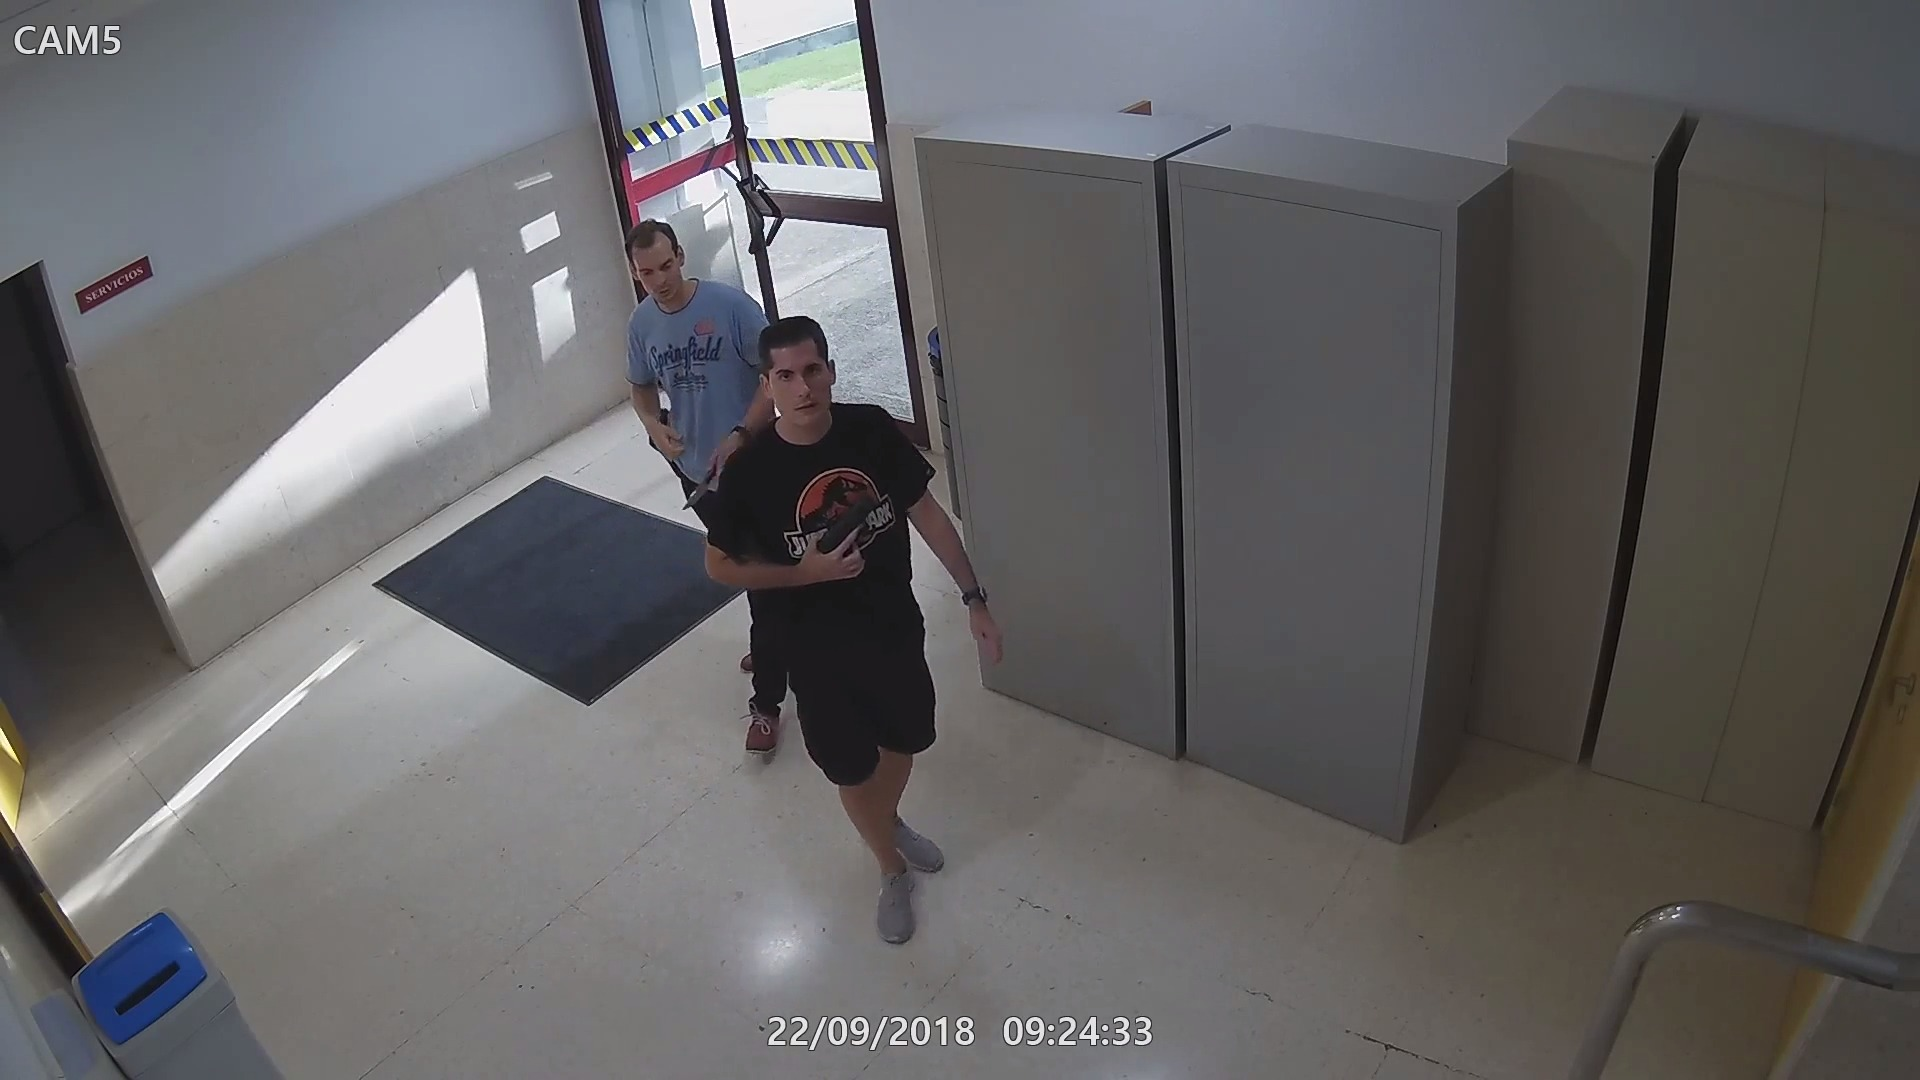Handgun: (804, 493, 880, 585)
Knife: (679, 434, 742, 514)
